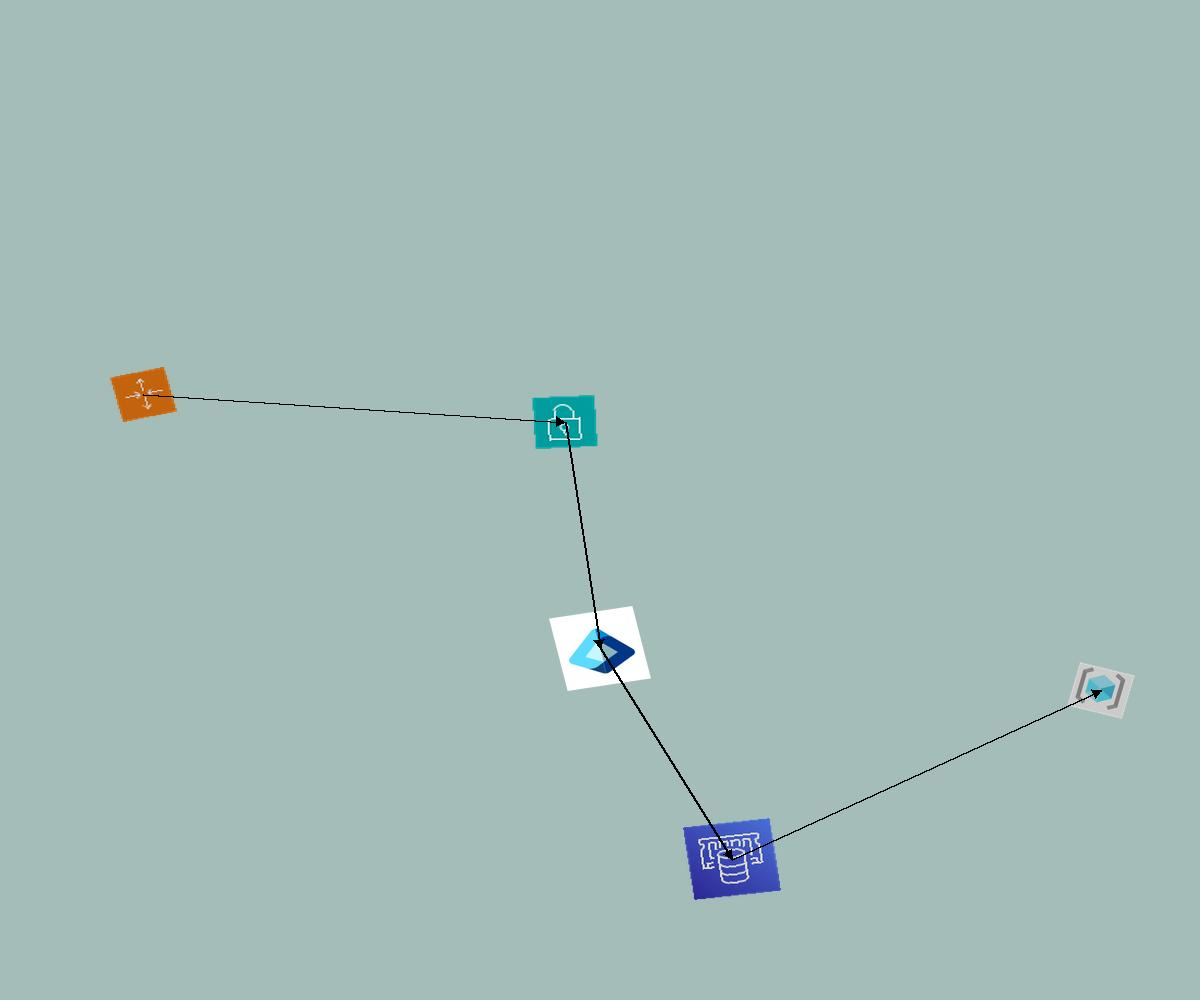AWS-ElastiCache: (683, 818, 781, 900)
AWS-Private-subnet: (531, 394, 599, 450)
AWS-Scaling-group: (109, 366, 178, 423)
Azure_microsoft_entra: (549, 606, 651, 691)
Azure_resource_group: (1067, 662, 1135, 719)
